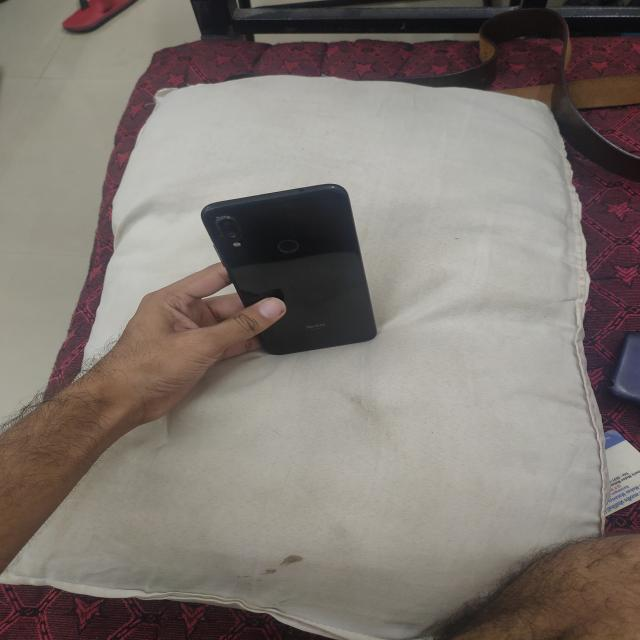Phone: (198, 179, 384, 357)
